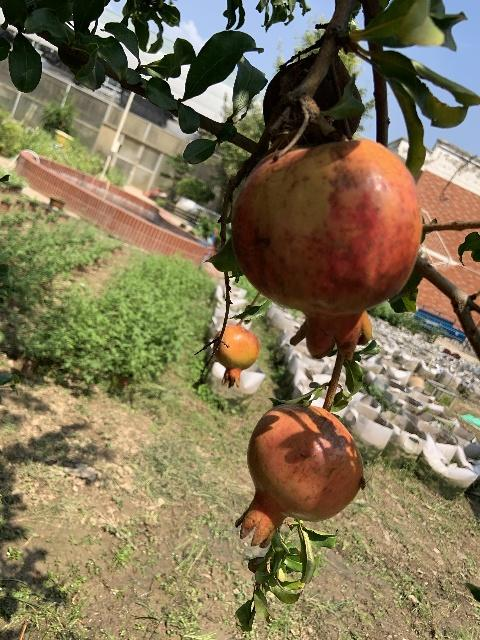ripe: (230, 139, 420, 362), (235, 403, 363, 547), (213, 325, 258, 388)
